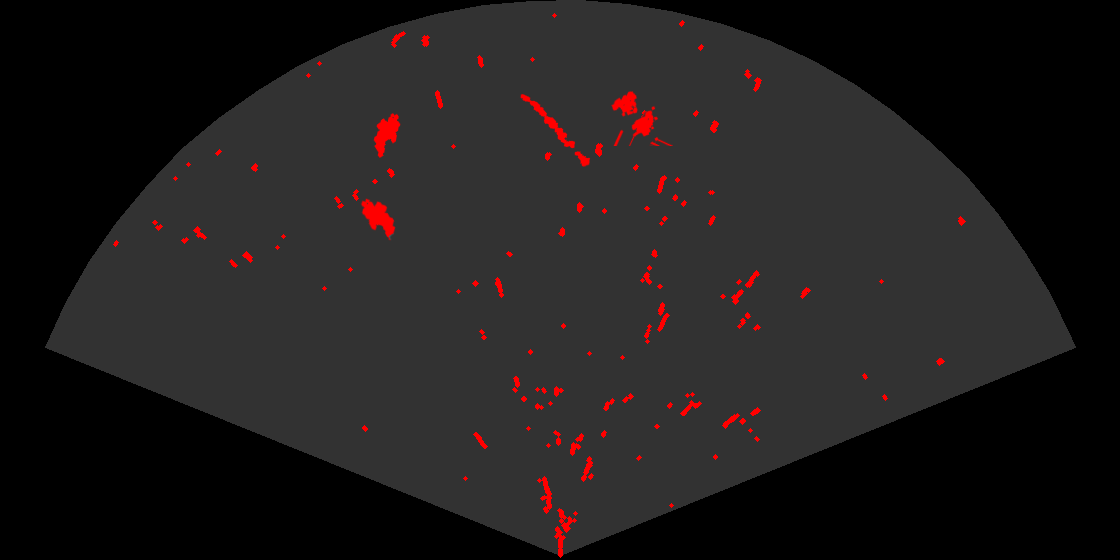AUV: (359, 197, 397, 242), (372, 111, 402, 159)
cage: (610, 89, 673, 146)
chain: (519, 92, 592, 168)
